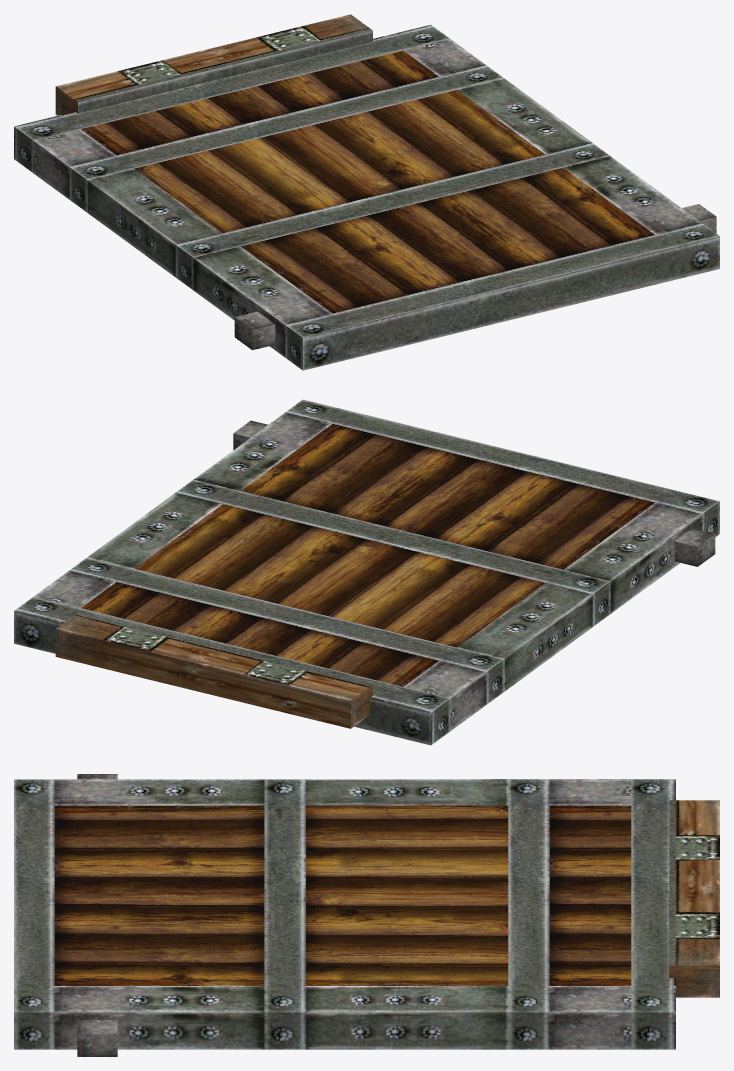
3 views of the same model, one above another, from view 1: azimuth 30°, elevation 25°; view 2: azimuth 150°, elevation 25°; view 3: azimuth 270°, elevation 25° (orthographic). The views are drawn at different scales.
Visible parts, largest first — view 1: cc50-col; view 2: cc50-col; view 3: cc50-col.
Part boxes in pixels (left/top/right/bottom): cc50-col: left=14, top=14, right=719, bottom=370; cc50-col: left=14, top=399, right=719, bottom=745; cc50-col: left=14, top=774, right=719, bottom=1056.
Size of the model in its own units: 4.45 by 0.5973 by 5.12.
Materials: 2 (2 with a texture image).
